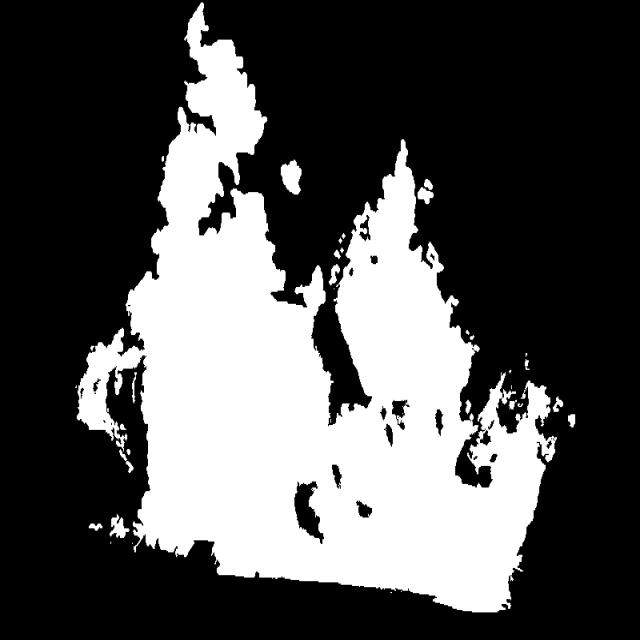fire: (122, 18, 576, 640)
